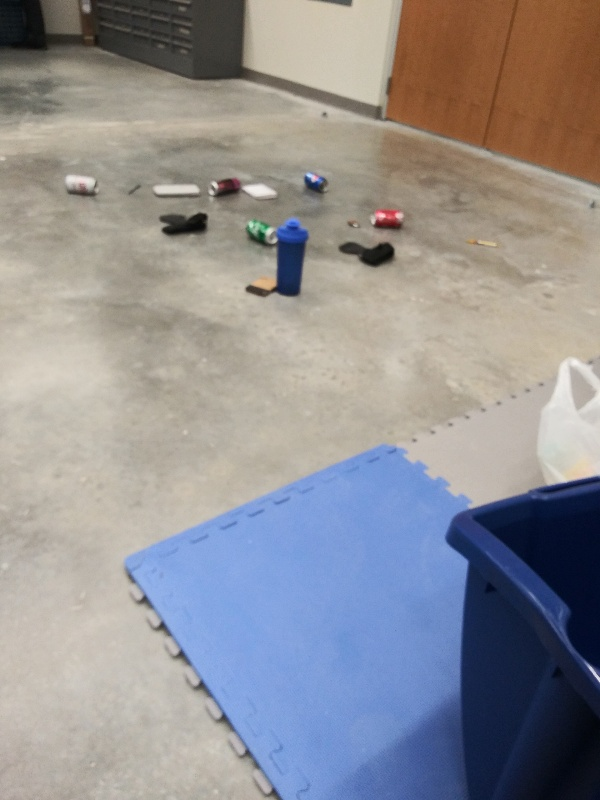can: (240, 217, 284, 246), (59, 171, 101, 199), (207, 176, 245, 202), (300, 166, 335, 194), (369, 206, 408, 229)
